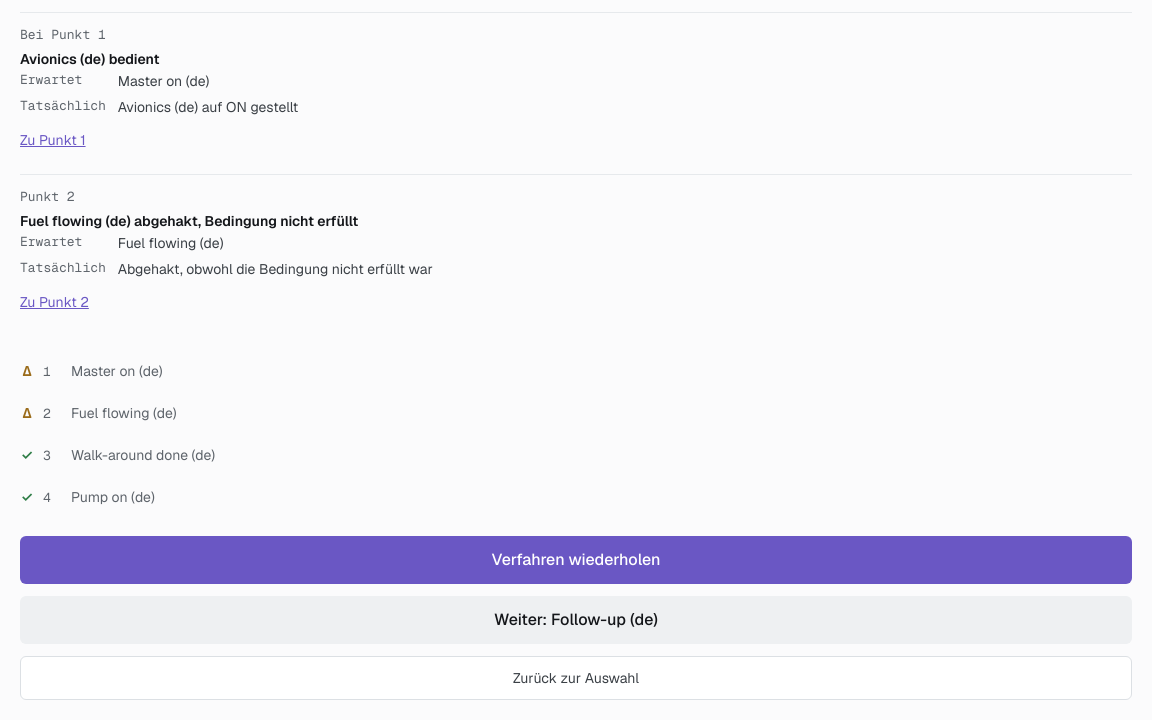
Test: full flight summary › back to selection › asks in German
(page scrolled)
Click the button "Zurück zur Auswahl" at (576, 678), box [20,656,1132,700]
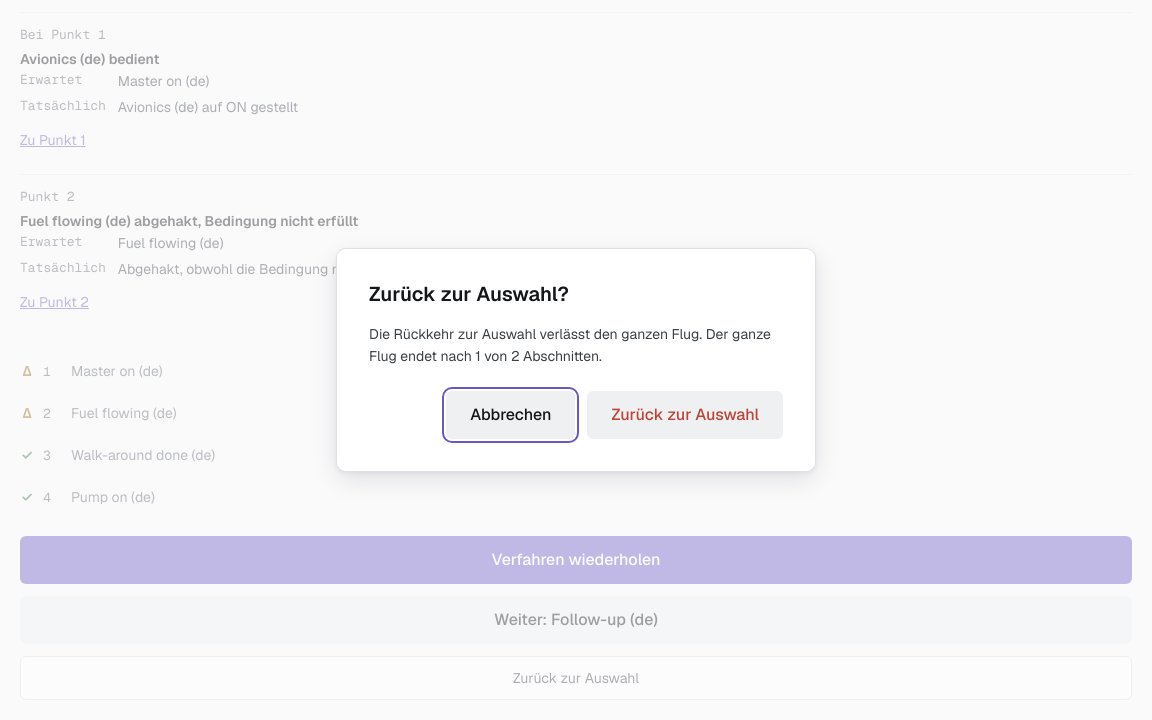
Now the heading "Zurück zur Auswahl?" is shown, box [369,281,569,307]
Now the text "Der ganze Flug endet nach 1 von 2 Abschnitten." is shown, box [369,325,771,365]
Now the button "Abbrechen" is shown, box [446,391,576,439]
